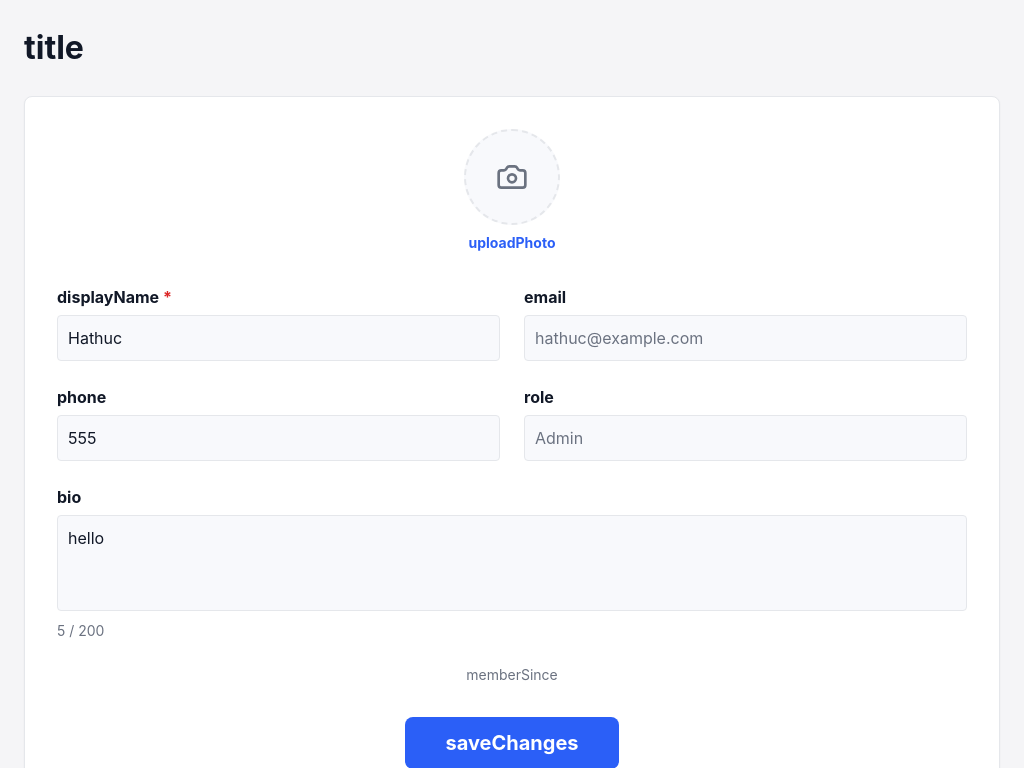
Test: ManageAccount page › save error toast › shows an error toast and re-enables the save button when updateStoredUser returns false
The image size is (1024, 768).
Replace the text in the field labelled "displayName *" with "Valid" at (278, 338), box left=57, top=315, right=500, bottom=361
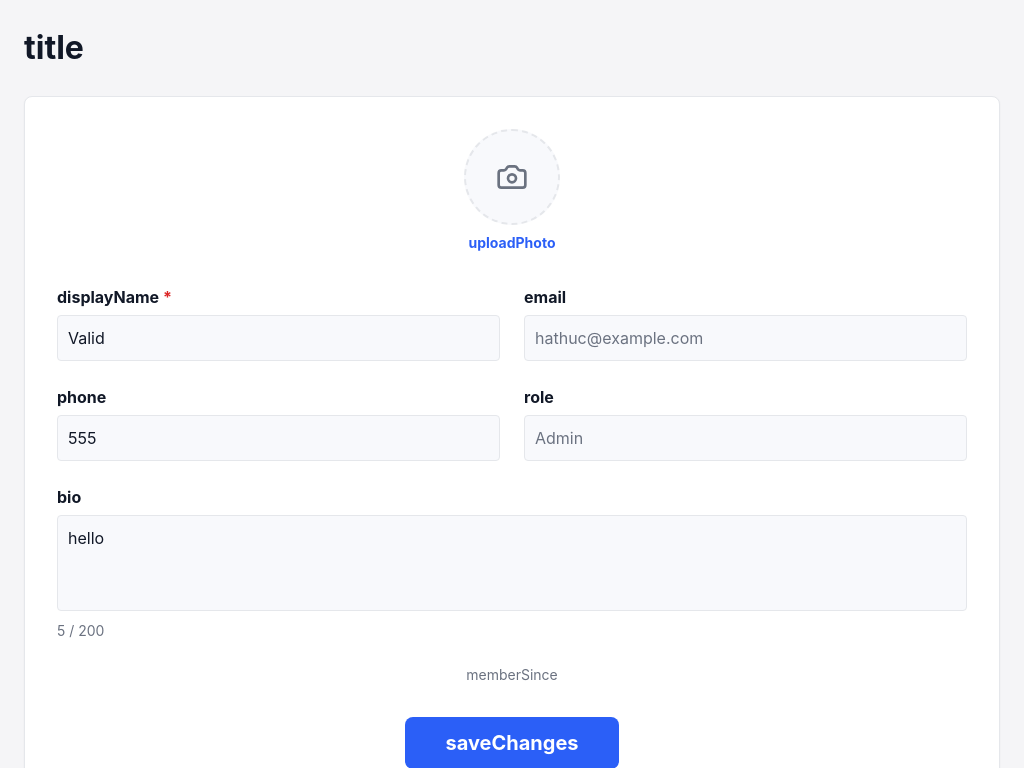
Click the button "saveChanges".
click(512, 743)  # box left=406, top=717, right=619, bottom=767
Wait 900 ms
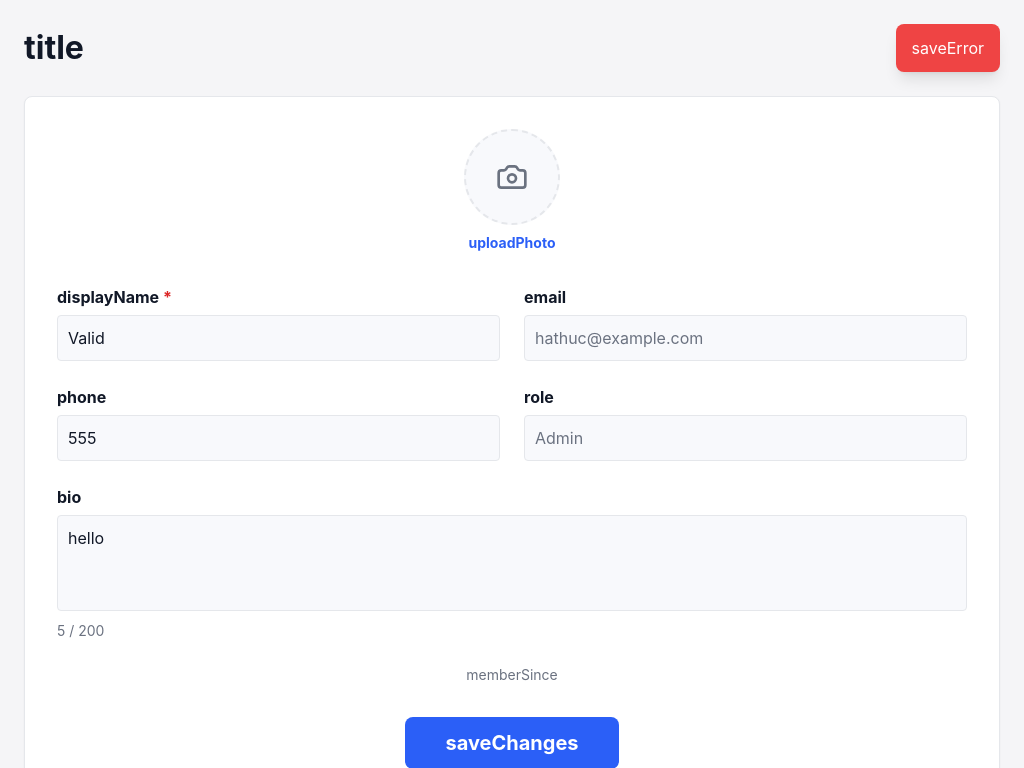
Result: the text "saveError" is shown at left=896, top=24, right=1000, bottom=72
